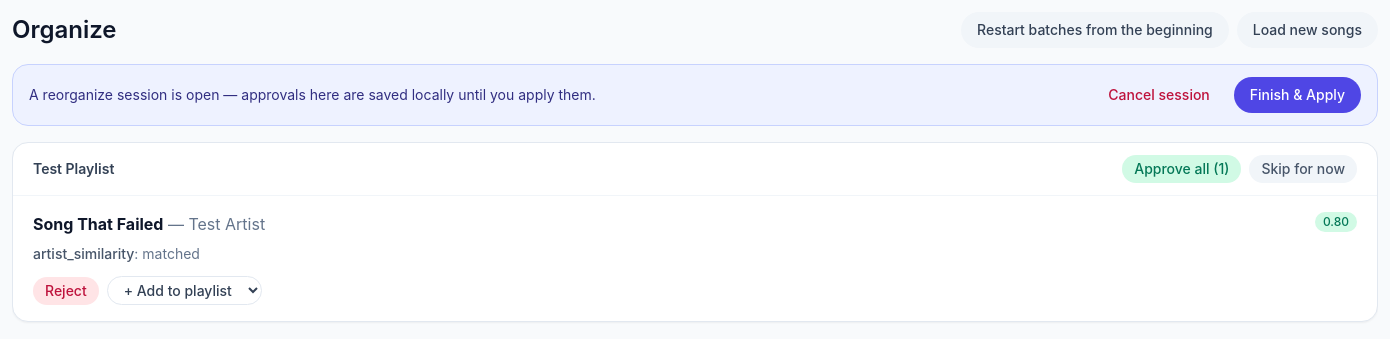
Scenario: ReviewQueue › names the failed songs in the apply-result banner when they're still in the queue
Expected: the element with test id "reorganize-session-banner" is shown, 12,64 -> 1378,126
What coordinates should you click on to do the following:
click the button "Finish & Apply"
I would click on:
 (1297, 95)
Its box is 1234,77 -> 1361,113.
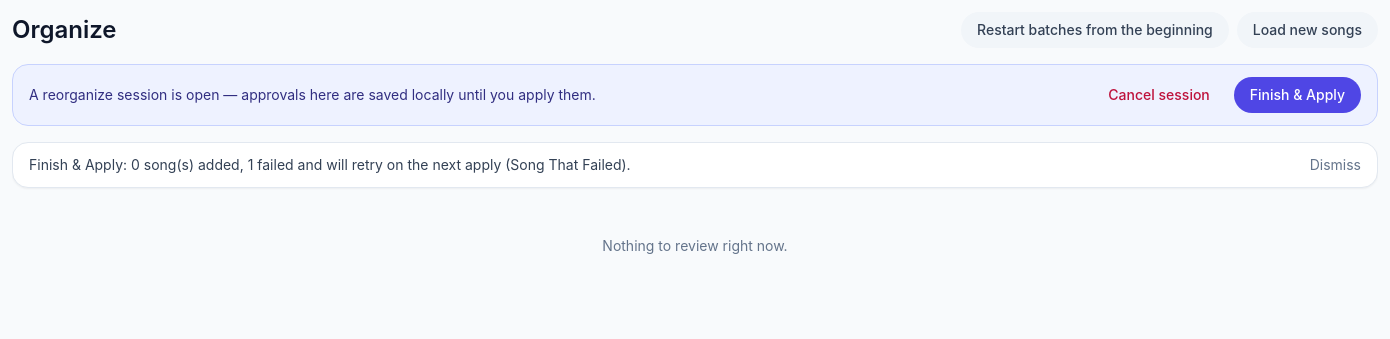
Expected: the message with test id "apply-result" shows "Song That Failed", 240,156 -> 631,173
